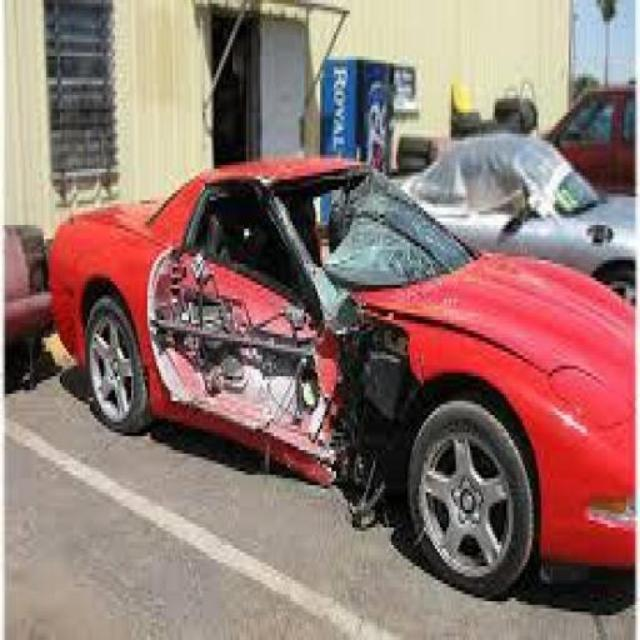crash: (148, 172, 439, 512)
